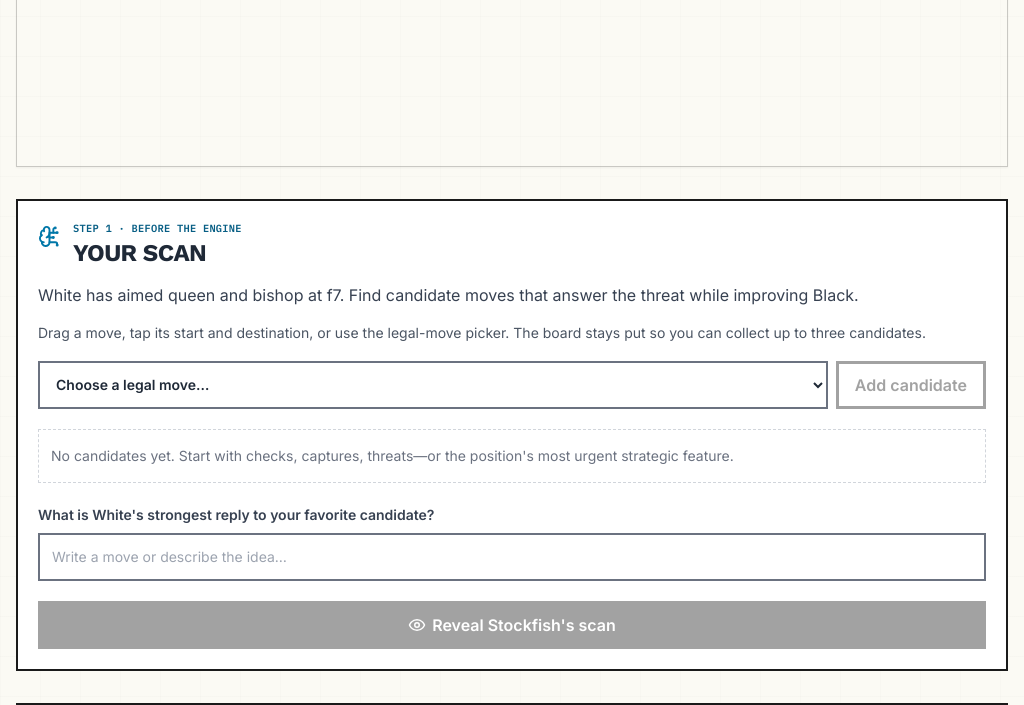
EngineXRayPage › offers keyboard users a legal-move picker for the scan
The image size is (1024, 705).
(page scrolled)
Select "Nf6" in the dropdown named "Choose a legal candidate move" at (433,385), box [38,361,828,409]
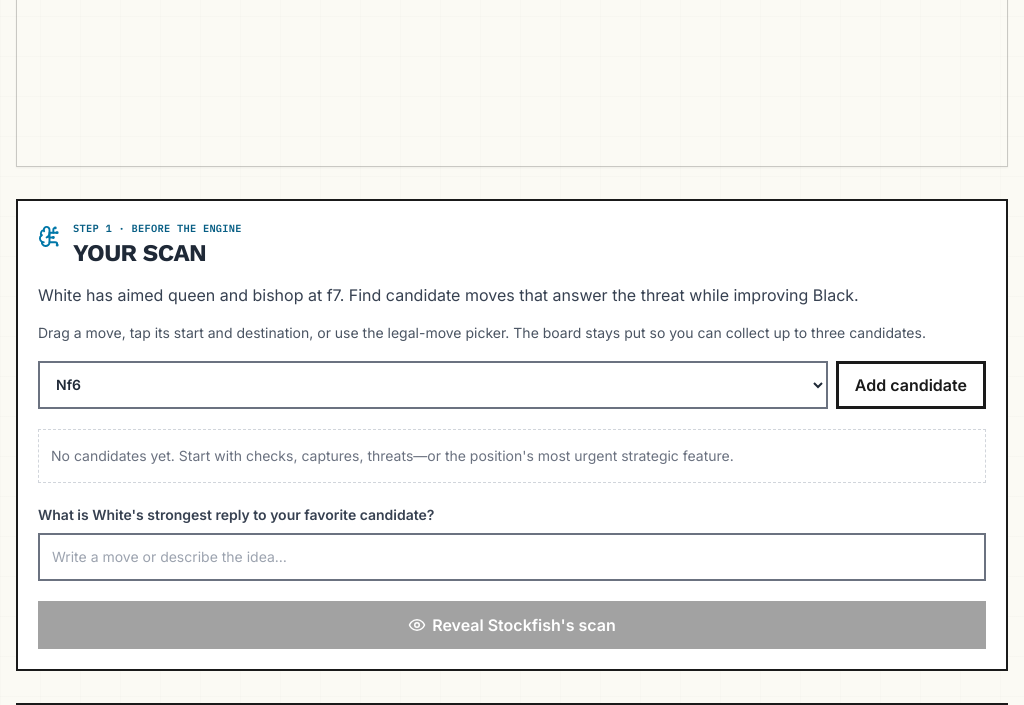
Click the button "Add candidate" at (911,385), box [836,361,986,409]
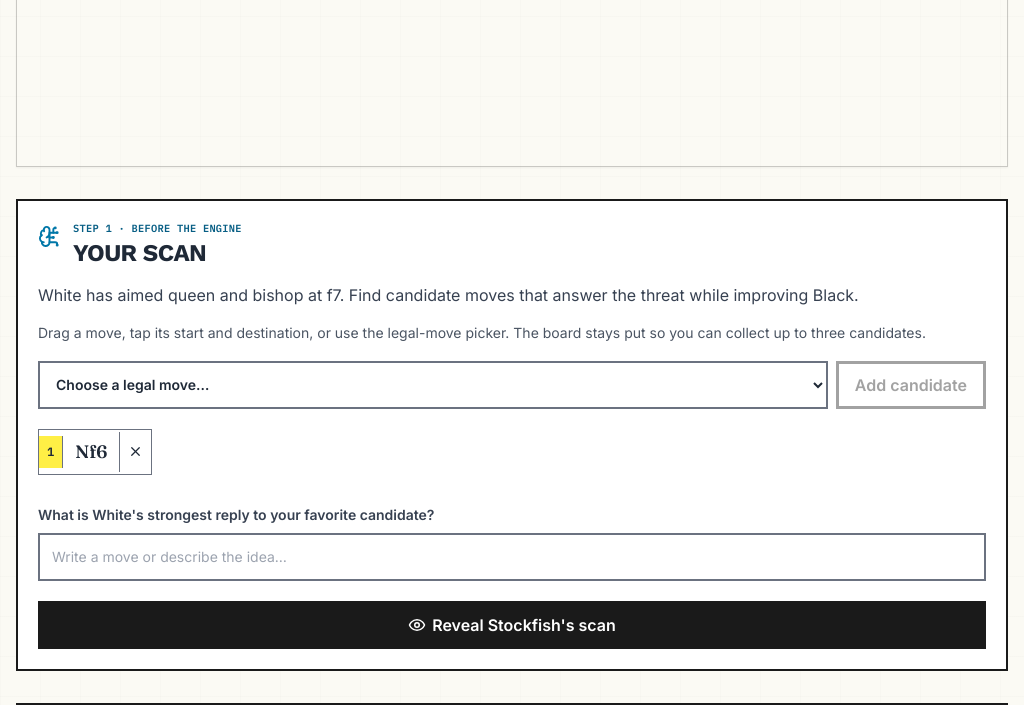
Check: the button named "Remove Nf6" is shown, box [119,432,151,472]
Check: the button "Reveal Stockfish's scan" is enabled, box [38,601,986,649]
